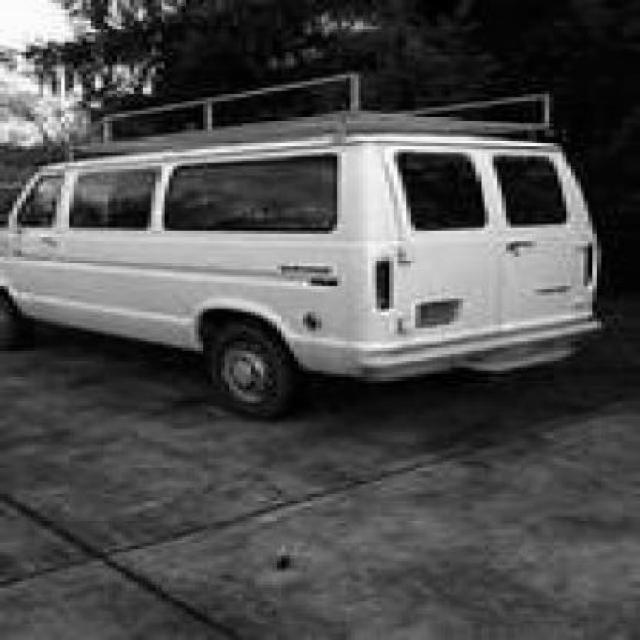Van: (0, 72, 607, 421)
